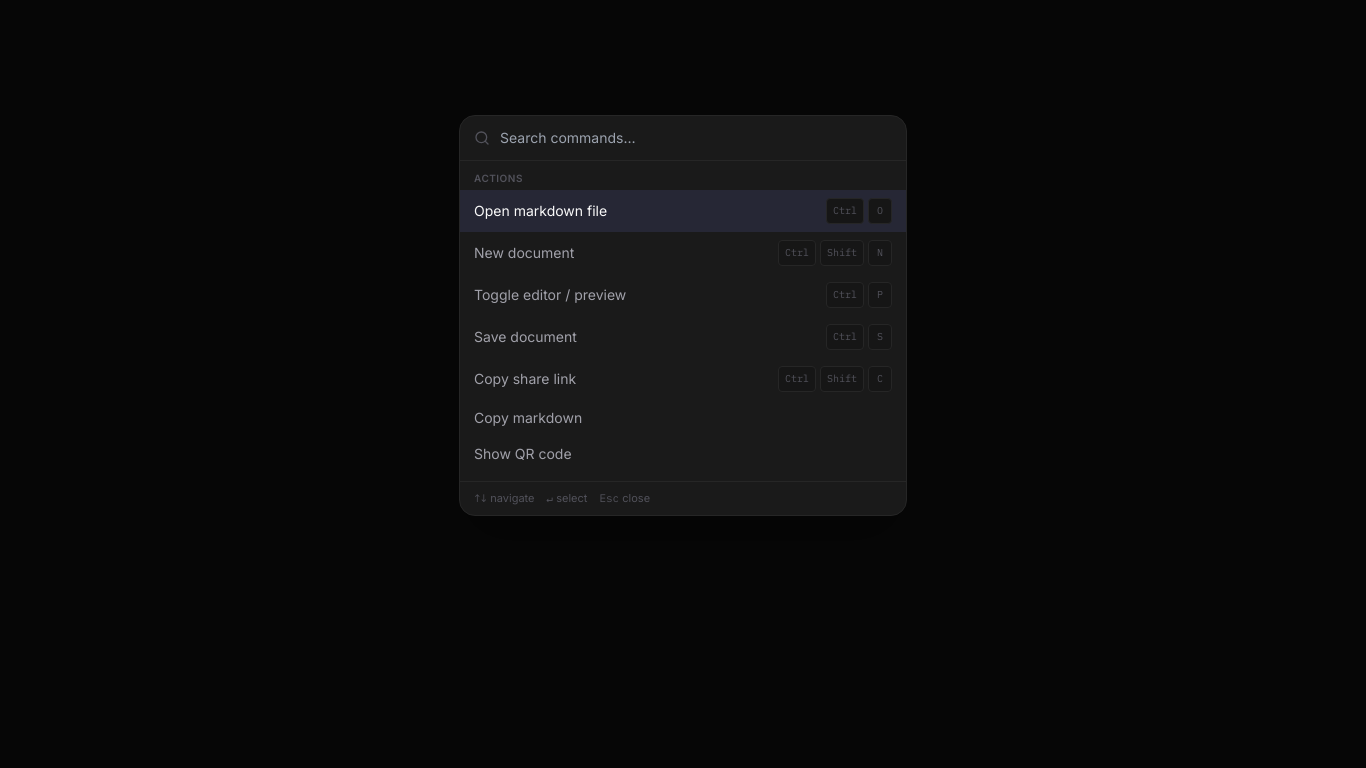
Test: CommandPalette › shows "No commands found" when query matches nothing
The image size is (1366, 768).
Type "xyzzy" into the field at (696, 138), box [500, 128, 892, 148]
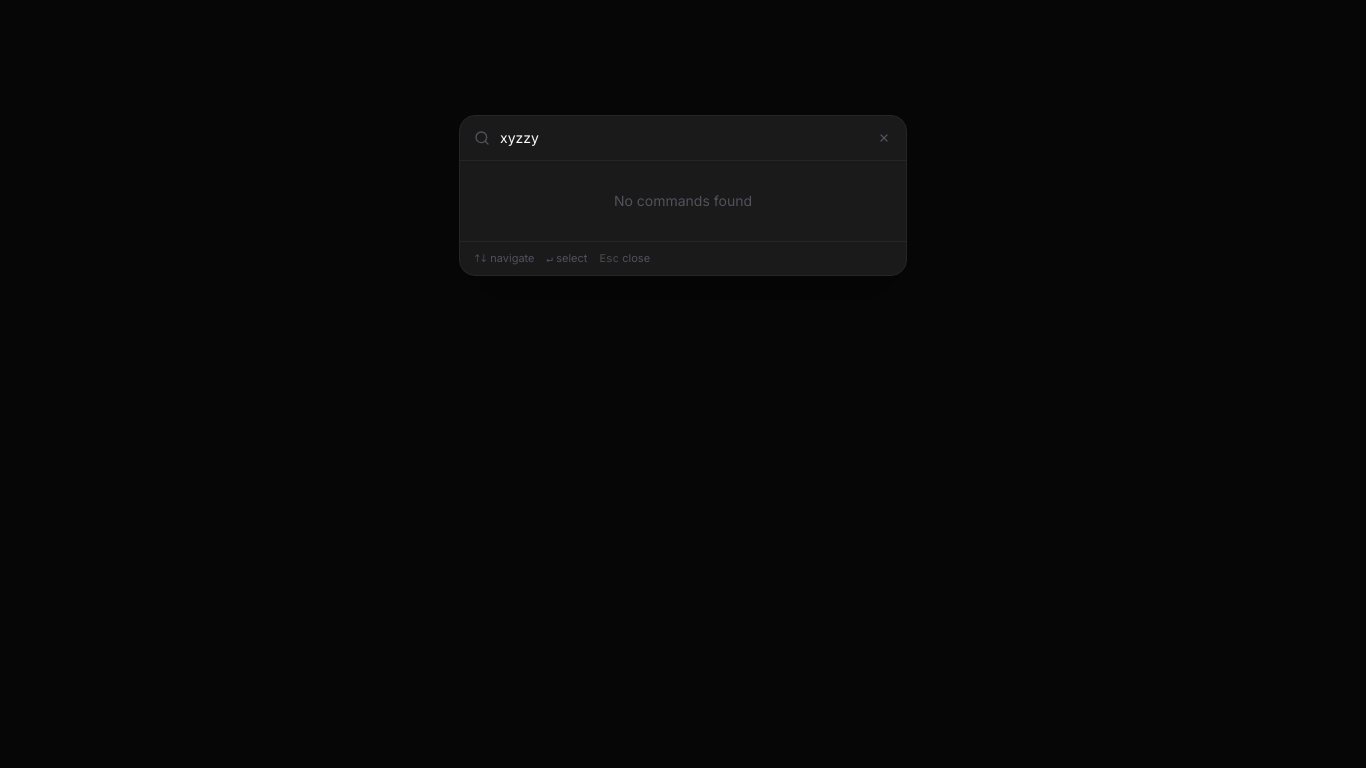
Now the text "No commands found" is shown, box [614, 192, 752, 209]
